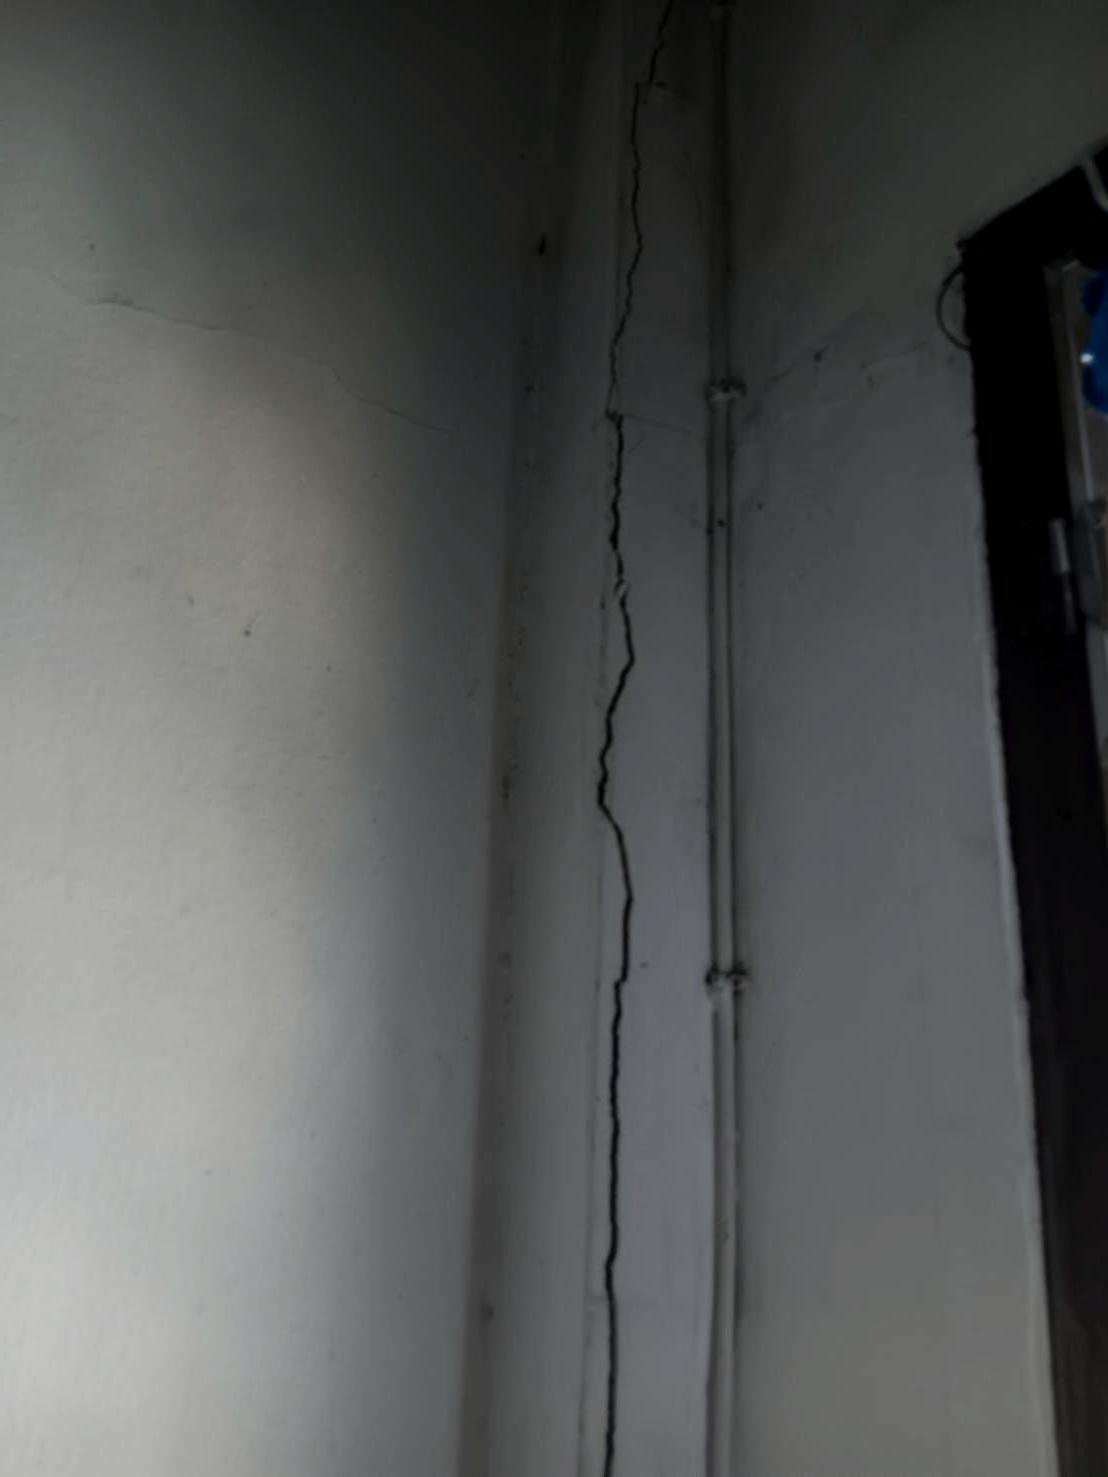High: (557, 54, 690, 1477)
